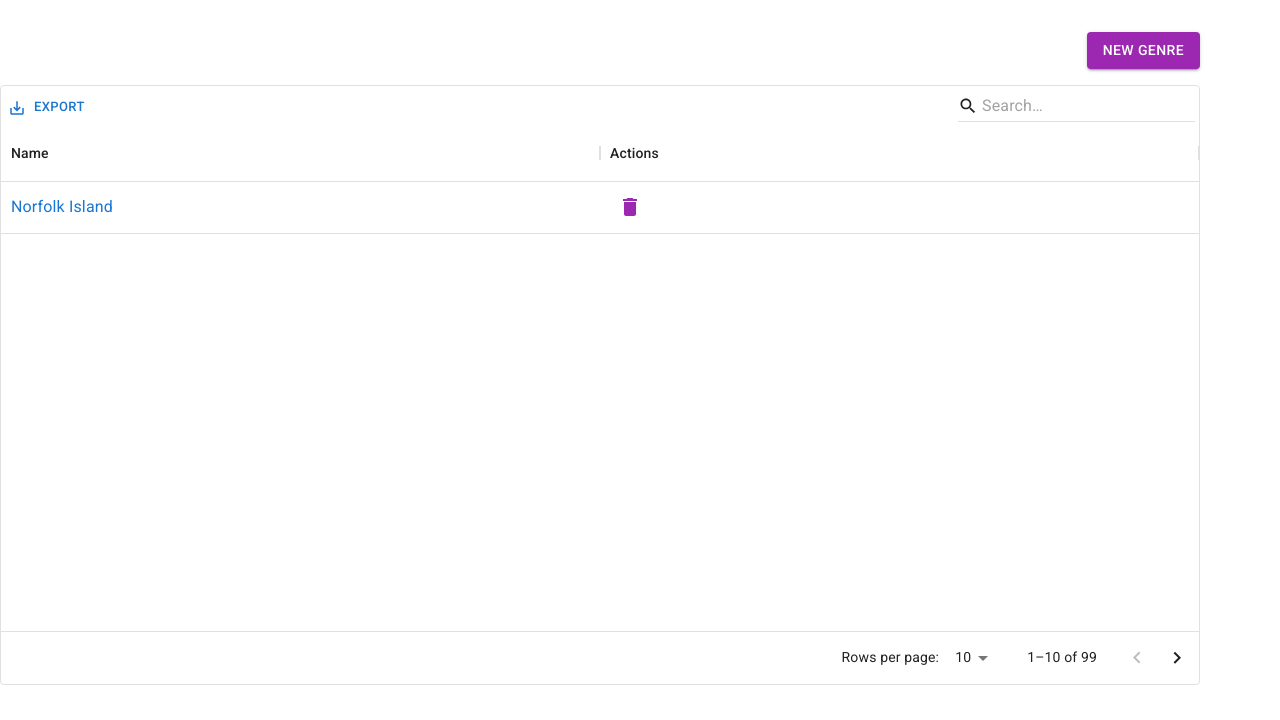
Test: ListGenre › should handle Delete Genre success
expect the text "Norfolk Island" is shown: met, box x1=11 y1=195 x2=113 y2=219
Click the button with test id "delete-button" at (630, 207), box x1=610 y1=187 x2=650 y2=227
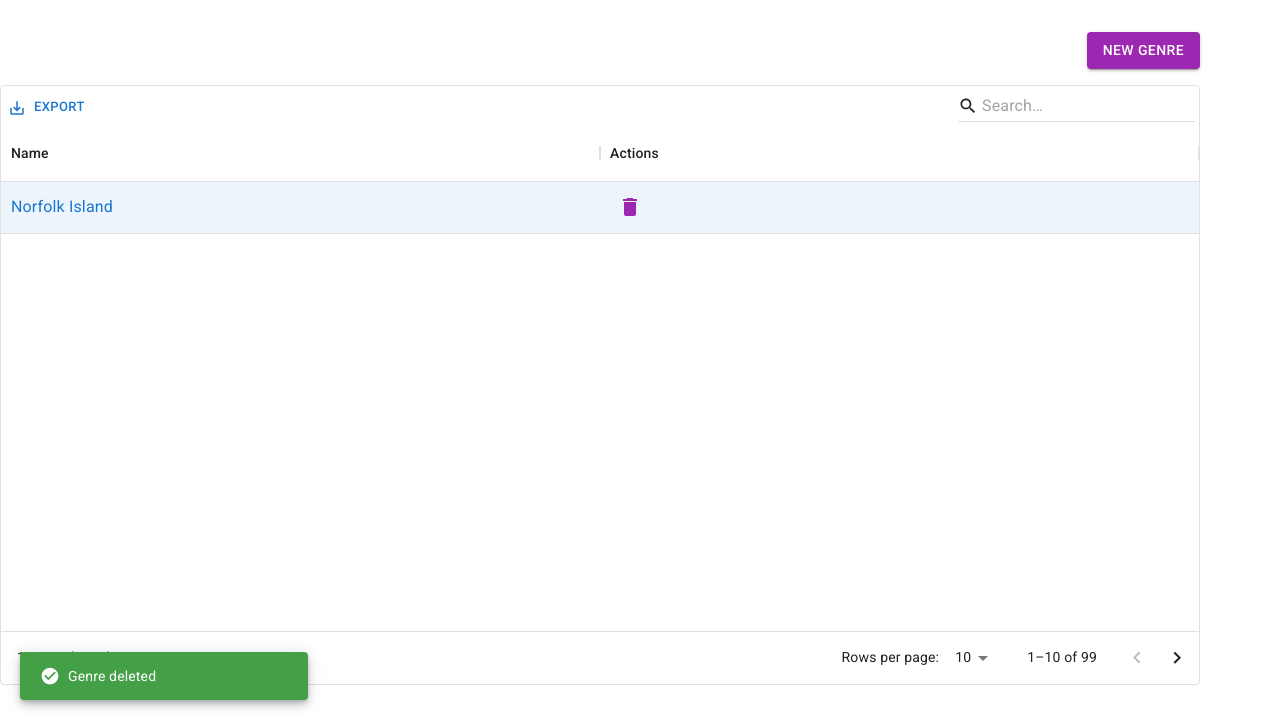
expect the text "Genre deleted" is shown: met, box x1=40 y1=666 x2=156 y2=686
